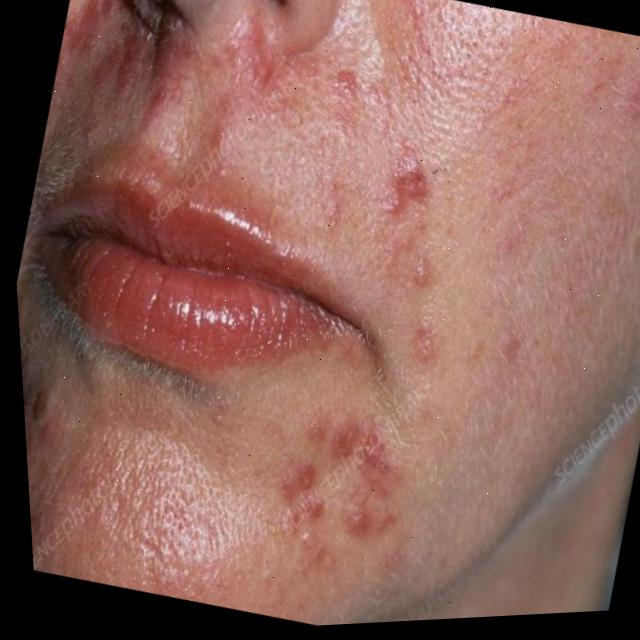Rosacea: (49, 0, 366, 152), (330, 135, 479, 360), (272, 415, 414, 563)
